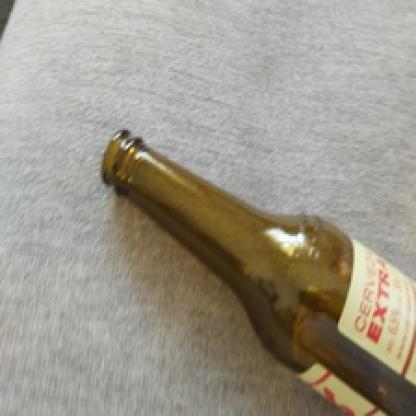Can: (95, 129, 416, 415)
